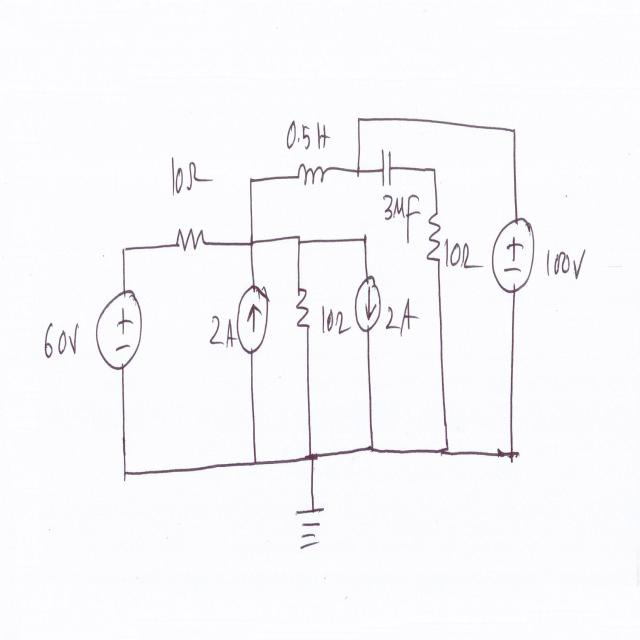capacitor: (377, 138, 397, 190)
current_source: (234, 277, 271, 357), (355, 267, 382, 339)
ground: (291, 501, 328, 555)
inductor: (294, 152, 327, 197)
resistor: (173, 217, 209, 258), (425, 202, 443, 272), (294, 277, 311, 338)
voltage_source: (94, 282, 144, 376), (490, 208, 538, 298)
